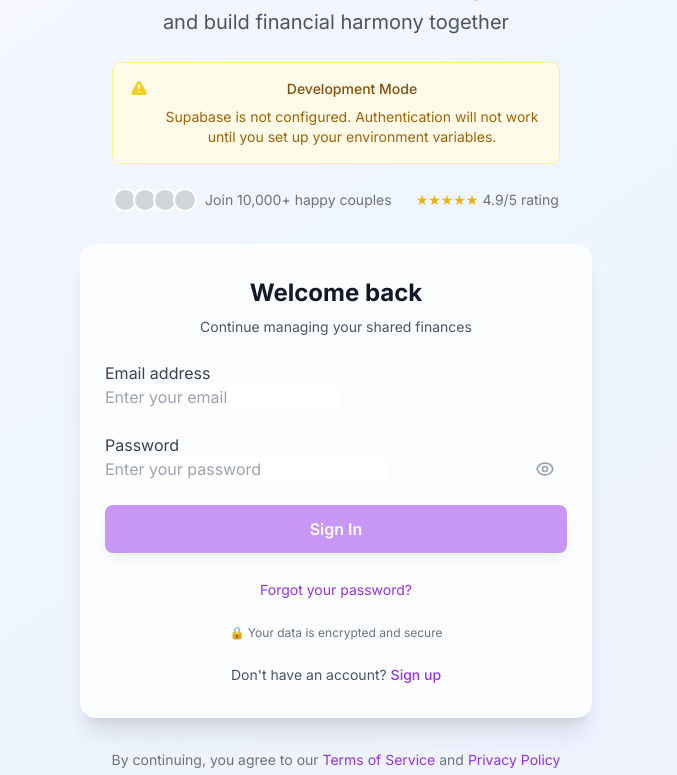
Test case: LoginForm › Form Validation › shows password strength indicator
This screenshot has width=677, height=775.
(page scrolled)
// Switch to signup mode
Click the button "Sign up" at (416, 675), box [391,665,441,685]
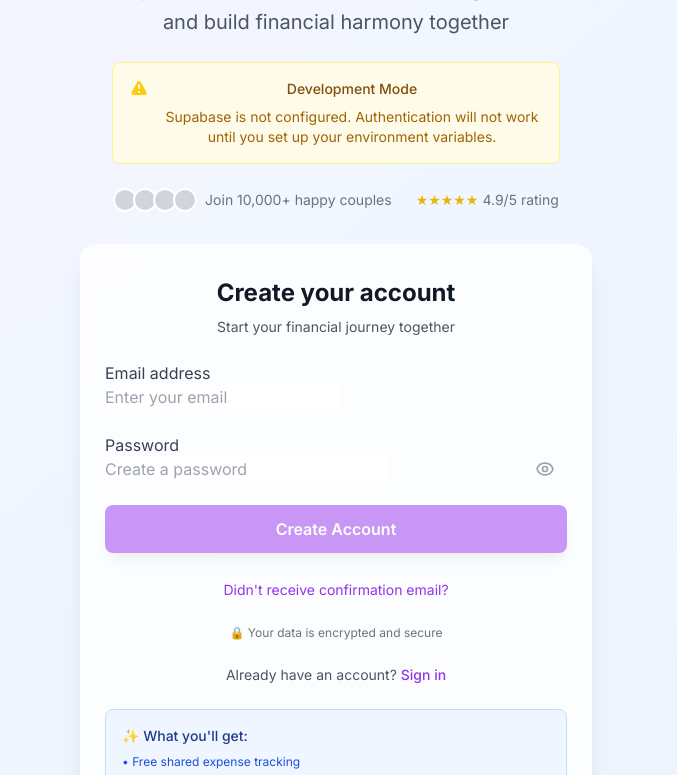
// Weak password
Type "short" into the password field with placeholder "Create a password" at (246, 469), box [105,457,387,481]
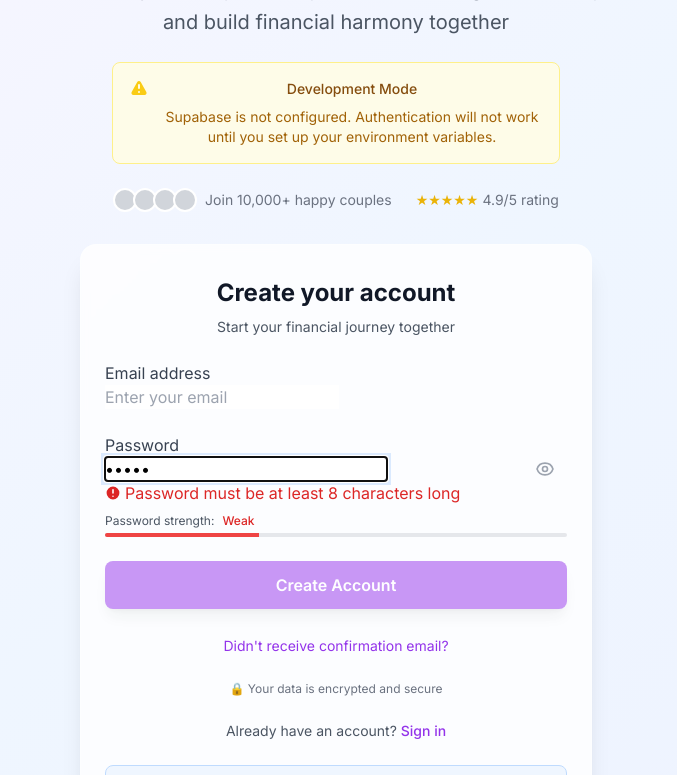
Expected: the text "Weak" is shown, [222,513,254,529]
// Strong password
Type "StrongPassword123!" into the password field with placeholder "Create a password" at (246, 469), box [105,457,387,481]
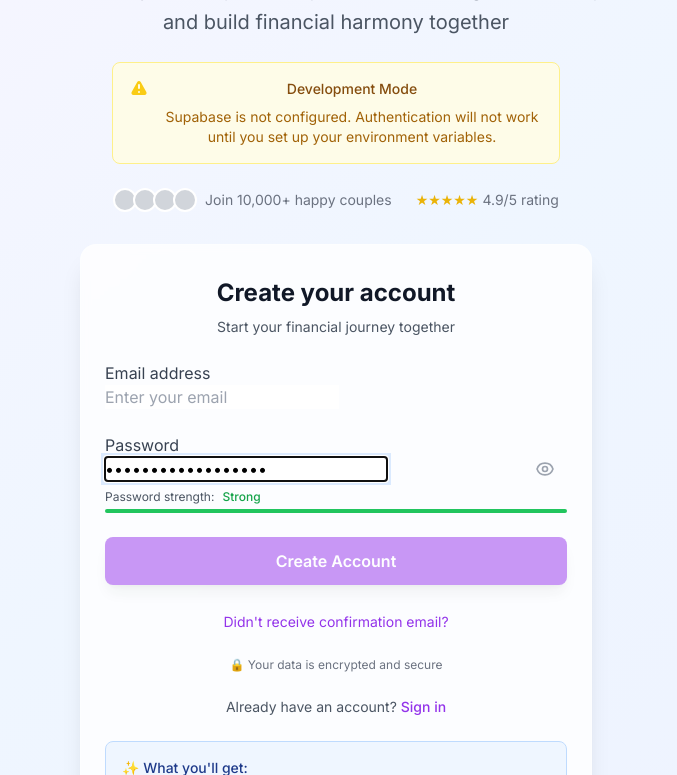
Expected: the text "Strong" is shown, [222,489,261,505]
